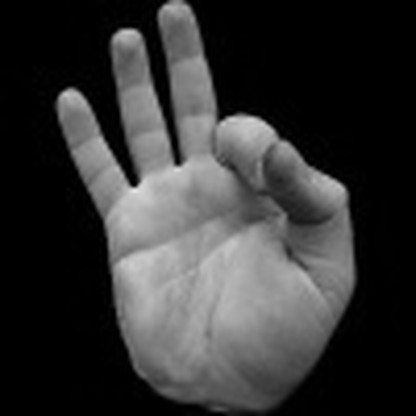f: (49, 1, 363, 397)
